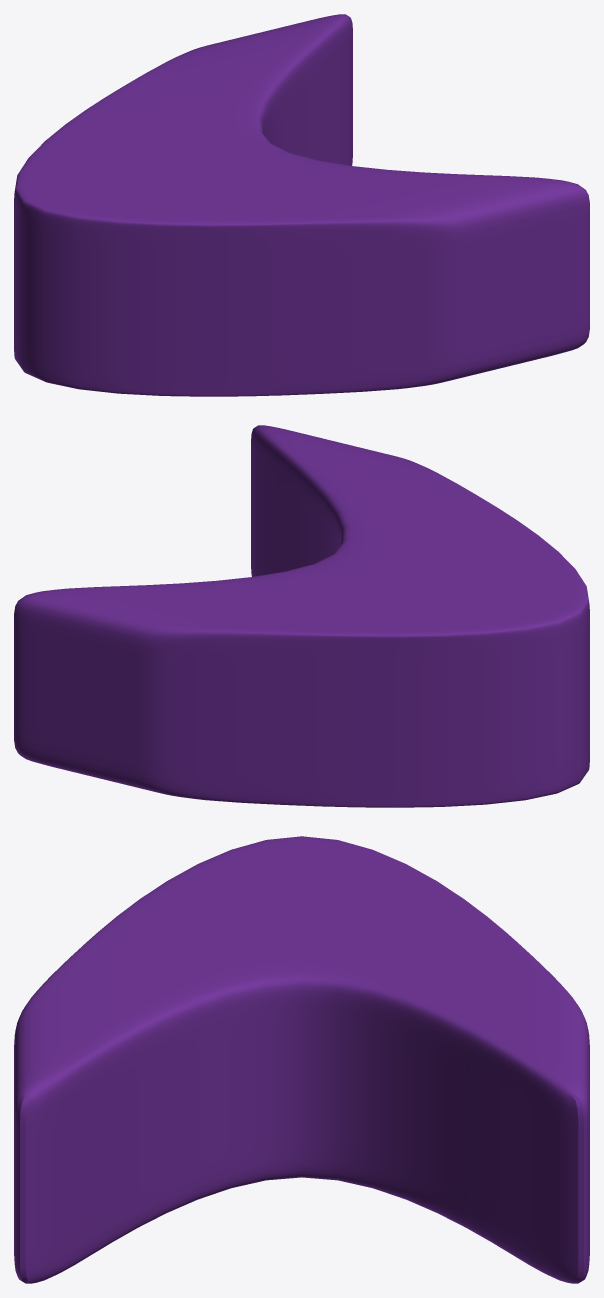
File: arrows_1.fbx
3 renders of one model, top to bottom at view 1: azimuth 30°, elevation 25°; view 2: azimuth 150°, elevation 25°; view 3: azimuth 270°, elevation 25°, orthographic. The views are drawn at different scales.
Parts seen in each view (by area): view 1: Arrow.001; view 2: Arrow.001; view 3: Arrow.001.
Boxes of the visible parts, x1,y1,x2,y2 form: Arrow.001: (14, 14, 589, 396); Arrow.001: (14, 425, 589, 807); Arrow.001: (14, 836, 589, 1283).
Bounding box in the file's own units: 423 × 158 × 400.
